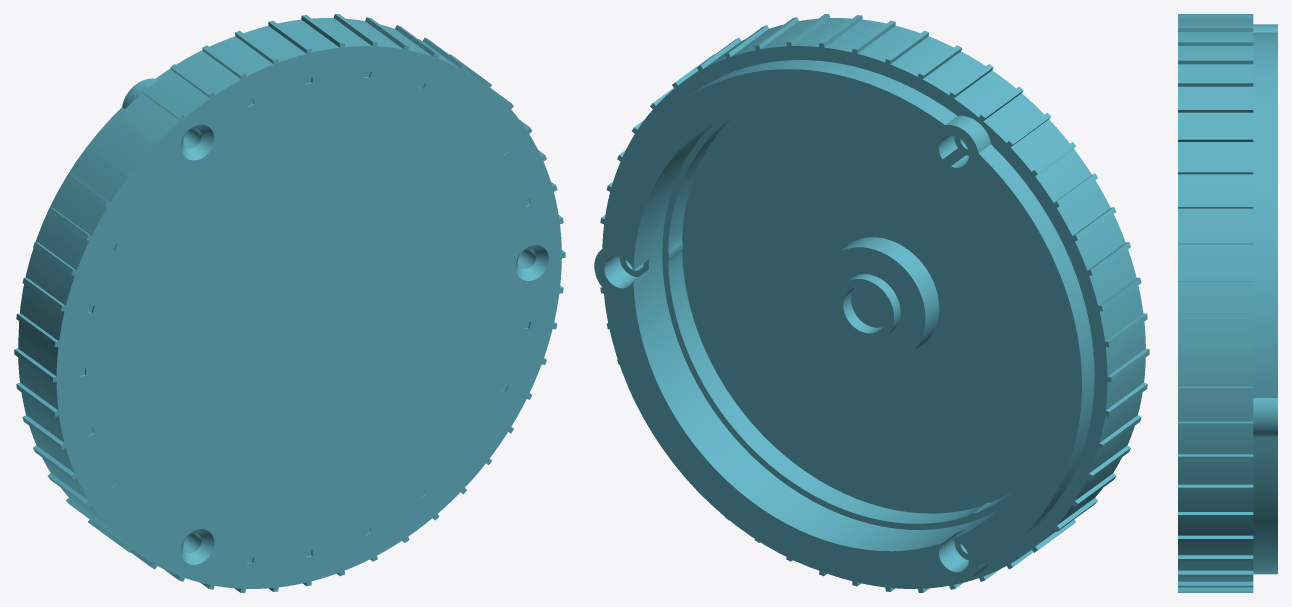
Rendered from Cap_circular.glb.
3 renders of one model, left to right at view 1: azimuth 30°, elevation 25°; view 2: azimuth 150°, elevation 25°; view 3: azimuth 270°, elevation 25°, orthographic. The views are drawn at different scales.
Visible parts, largest first — view 1: Cap_circular_0; view 2: Cap_circular_0; view 3: Cap_circular_0.
Boxes of the visible parts, x1,y1,x2,y2 form: Cap_circular_0: (14, 14, 565, 592); Cap_circular_0: (594, 14, 1149, 592); Cap_circular_0: (1178, 14, 1277, 592).
Size of the model in its own units: 61.6 by 61.6 by 10.6.
